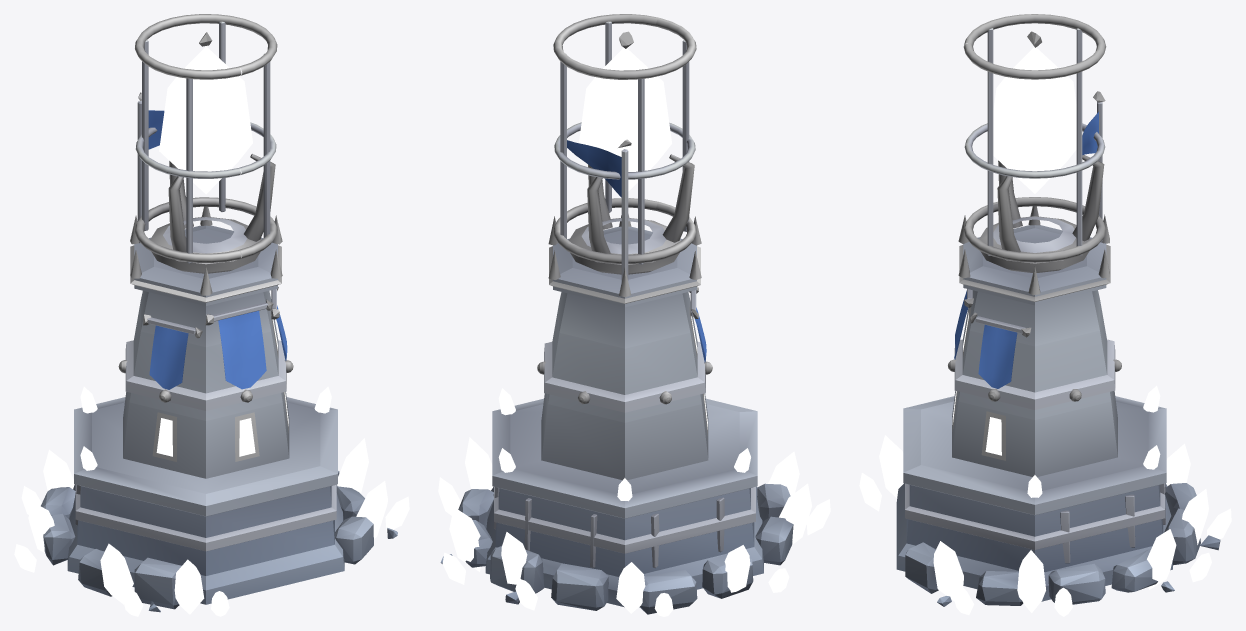
The model's file is frost_1_7.glb.
3 renders of one model, left to right at view 1: azimuth 30°, elevation 25°; view 2: azimuth 150°, elevation 25°; view 3: azimuth 270°, elevation 25°, orthographic.
Parts seen in each view (by area): view 1: Tower, Turret; view 2: Tower, Turret; view 3: Tower, Turret.
Boxes of the visible parts, bbox=[...] form: Tower: bbox=[14, 92, 409, 616]; Turret: bbox=[135, 14, 277, 273]; Tower: bbox=[438, 139, 830, 616]; Turret: bbox=[553, 14, 696, 274]; Tower: bbox=[859, 91, 1231, 616]; Turret: bbox=[963, 14, 1106, 272].
Size of the model in its own units: 4.25 by 6.09 by 3.97.
